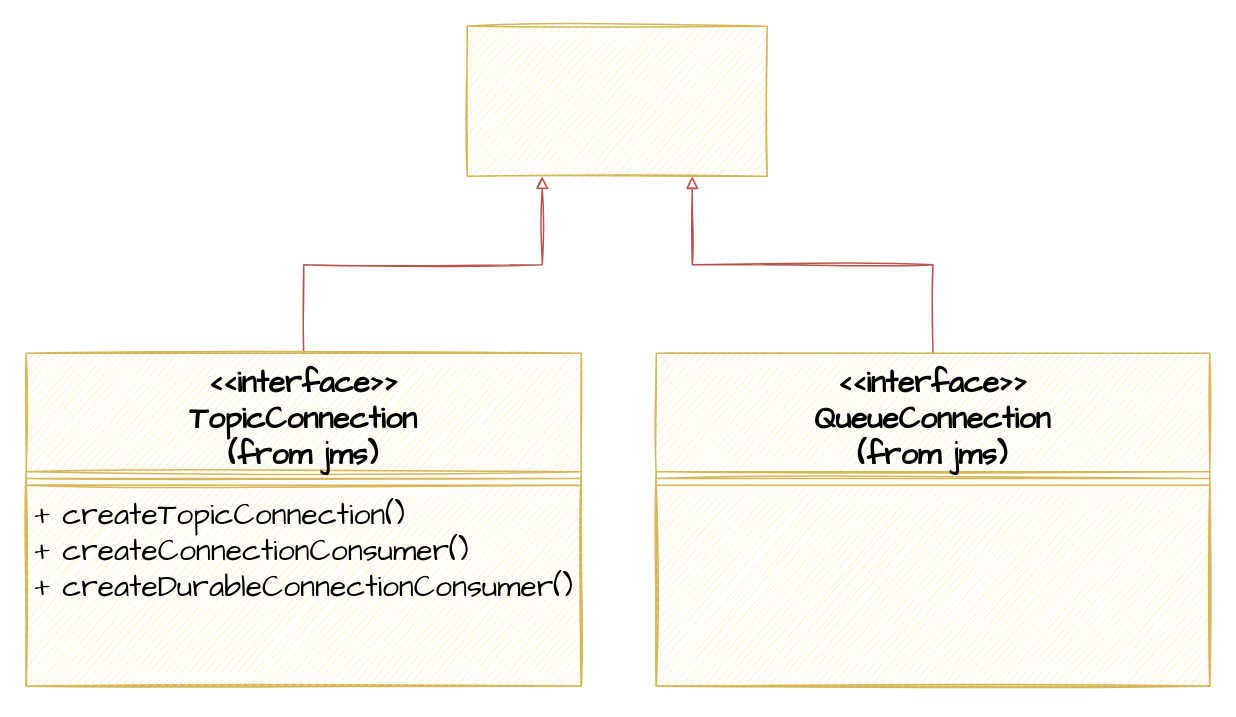
This 1236x717 diagram has some shape labels left out. The shapes that lost their labels are listed below. From the top down, each one's centre as x and y in pixels, then its label:
At (x=616, y=100): "«interface» Connection (from jms)".
At (x=932, y=585): "+ createQueueConnection() + createConnectionConsumer()".
